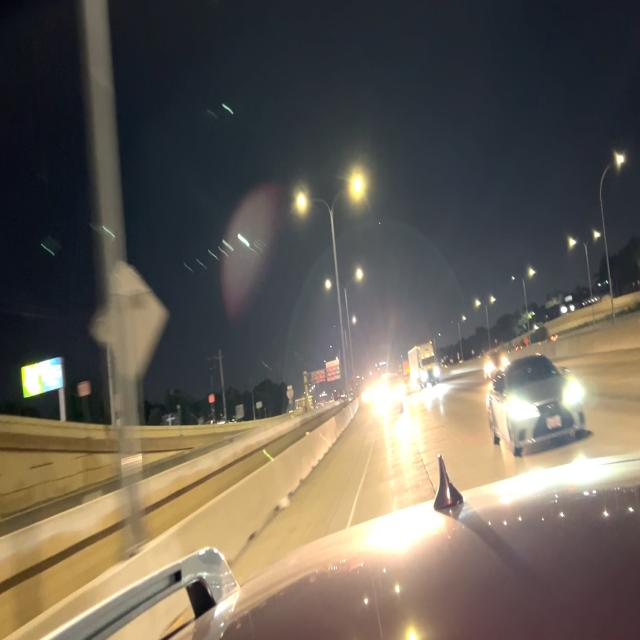back-of-sign: (313, 360, 341, 388)
